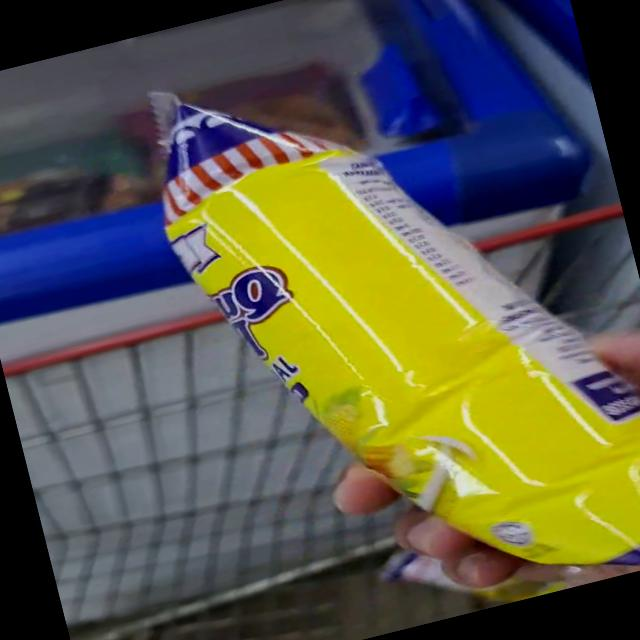Roti: (140, 45, 640, 640)
